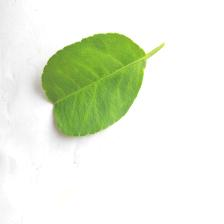healthy: (65, 58, 127, 108)
